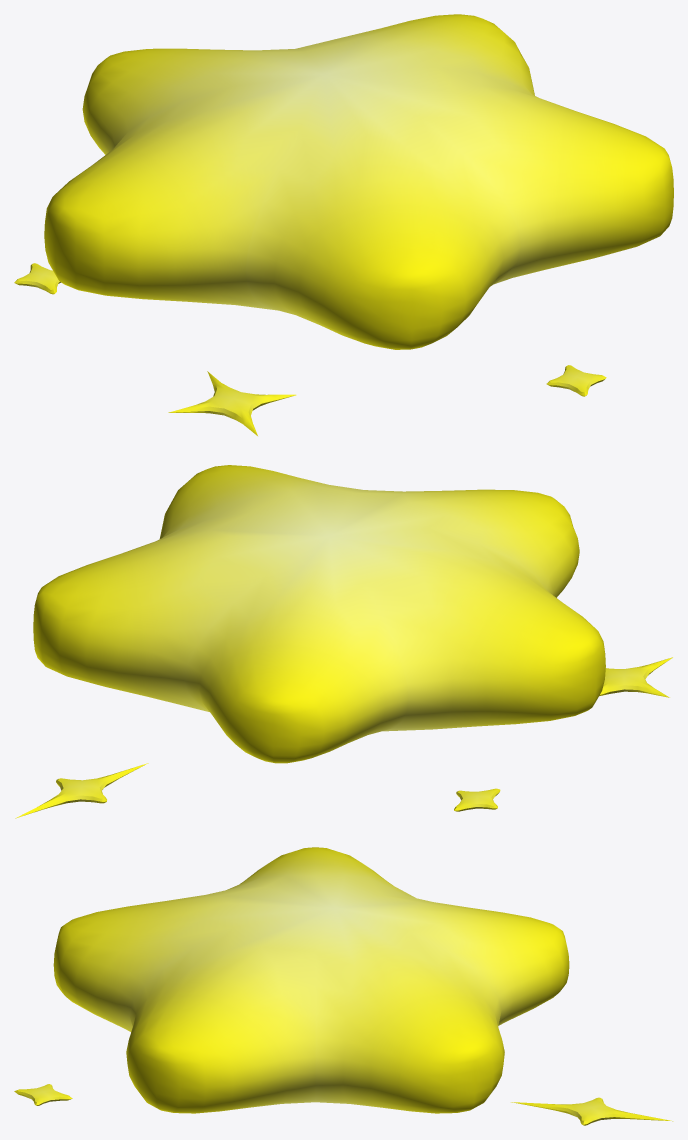
Rendered from étoile.fbx.
The picture shows the model from 3 angles, top to bottom: view 1: azimuth 30°, elevation 25°; view 2: azimuth 150°, elevation 25°; view 3: azimuth 270°, elevation 25°; orthographic projection. The views are drawn at different scales.
Parts seen in each view (by area): view 1: Star, sparkle3, sparkle4, sparkle1; view 2: Star, sparkle2, sparkle3, sparkle1; view 3: Star, sparkle2, sparkle4.
Boxes of the visible parts, box(x1,y1,x2,y2) form: Star: box(44, 14, 673, 349); sparkle3: box(168, 371, 296, 435); sparkle4: box(546, 365, 606, 396); sparkle1: box(14, 263, 60, 294); Star: box(33, 465, 605, 763); sparkle2: box(15, 763, 148, 818); sparkle3: box(599, 657, 672, 697); sparkle1: box(454, 788, 500, 811); Star: box(53, 847, 569, 1113); sparkle2: box(511, 1097, 673, 1125); sparkle4: box(14, 1084, 72, 1105).
Bounding box in the file's own units: 97.64 × 34.58 × 128.
